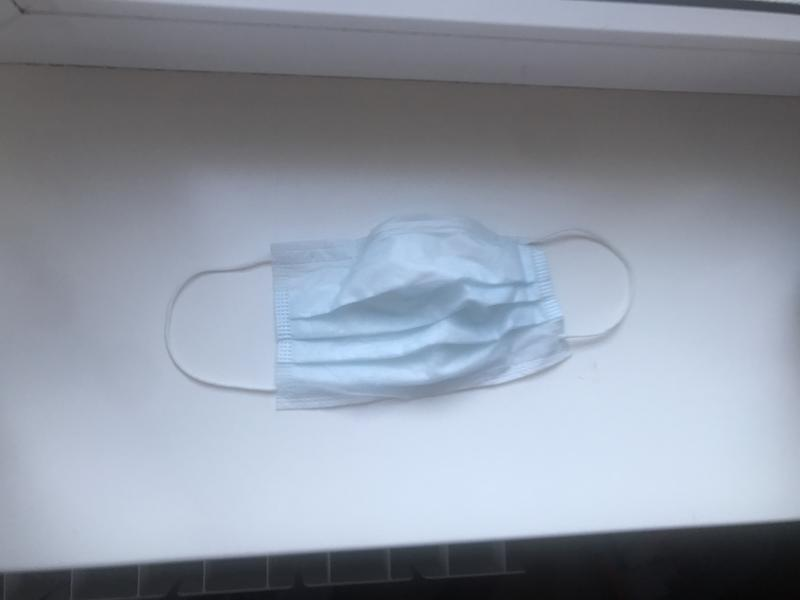medical_mask: (170, 216, 634, 405)
